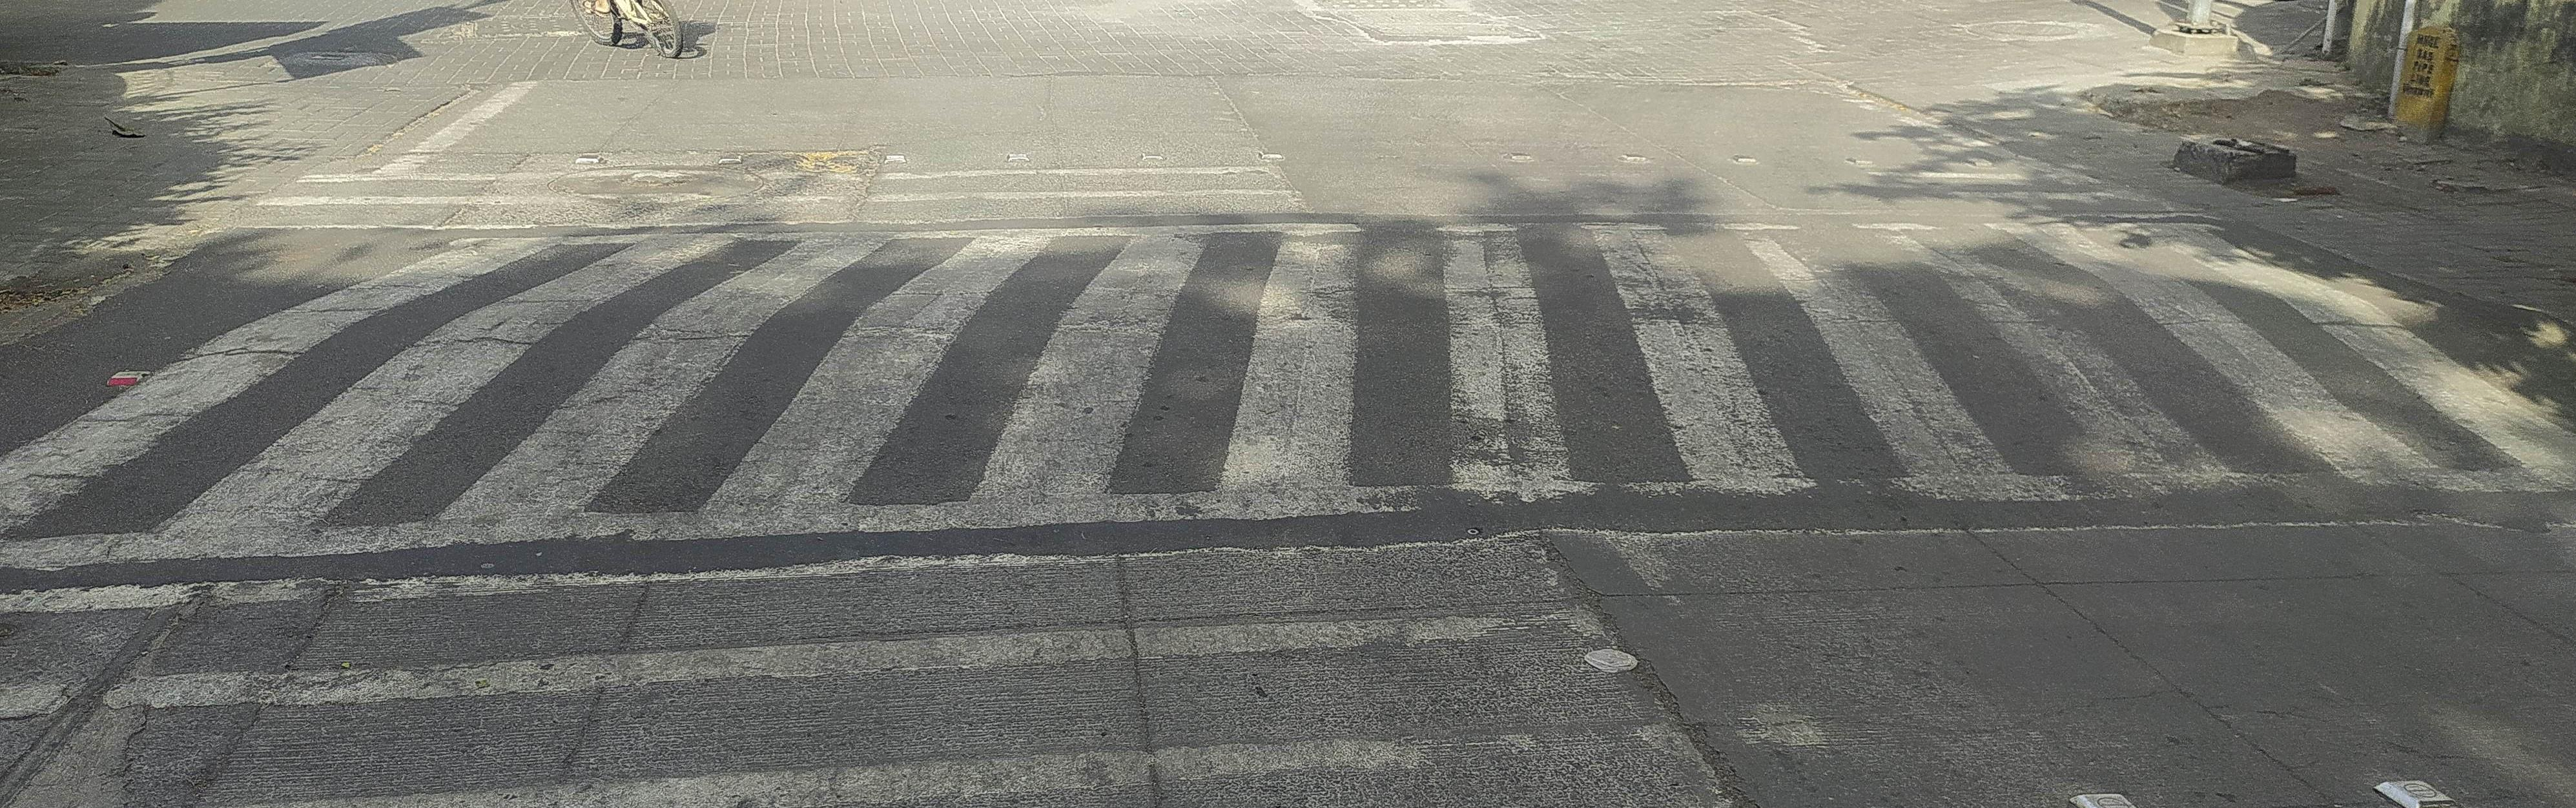speed-bump: (5, 200, 2575, 601)
